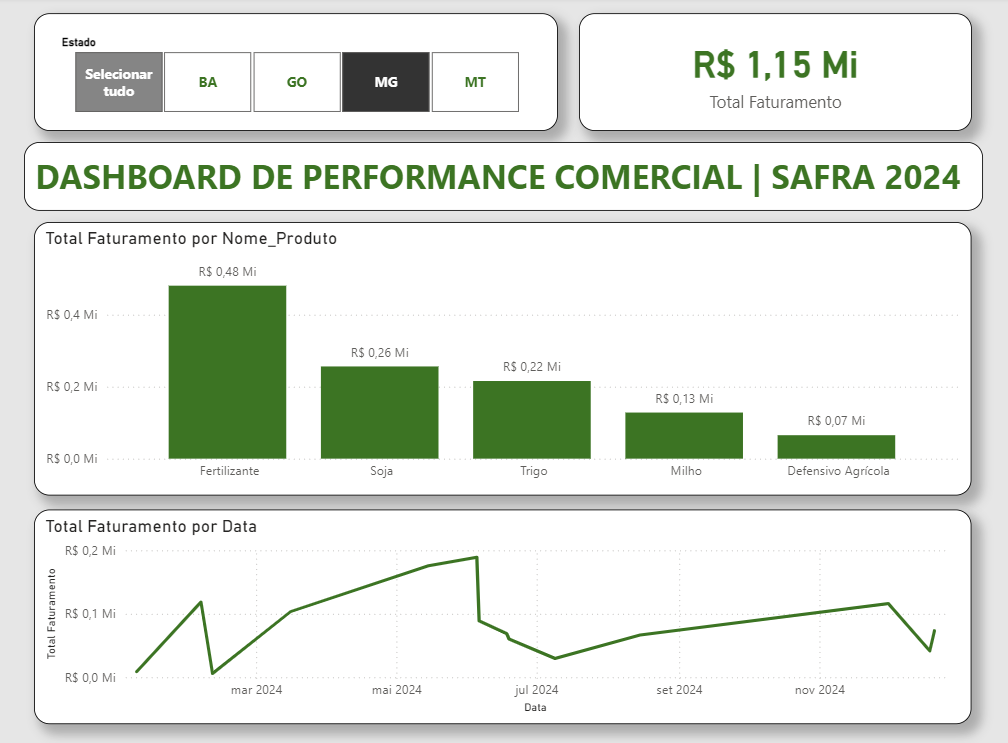

What the dashboard file says about the page in this screenshot:
{"tool":"powerbi","page":{"name":"Página 1","canvas":[1280,720],"ordinal":0},"visuals":[{"type":"card","fields":{"Values":["fVendas.Total Faturamento"]},"box":[748,15.7,378.8,113.4],"z":0},{"type":"columnChart","fields":{"Category":["dProdutos.Nome_Produto"],"Y":["fVendas.Total Faturamento"]},"box":[222,217.2,904.8,264.2],"z":1000},{"type":"slicer","fields":{"Values":["dClientes.Estado"]},"box":[222,15.7,505.5,113.4],"z":2000},{"type":"lineChart","fields":{"Y":["fVendas.Total Faturamento"],"Category":["fVendas.Data"]},"box":[222,494.6,904.8,207.5],"z":3000},{"type":"textbox","box":[212.3,139.9,925.3,66.4],"z":4000}]}

Visuals, with their boxes on the page's 1280x720 design canvas (x1, y1, x2, y2). These are canvas units, not pixel positions in the 1008x743 screenshot, which may show the page scaled, cropped or inside an application window:
card - fVendas.Total Faturamento: [748, 16, 1127, 129]
columnChart - dProdutos.Nome_Produto x fVendas.Total Faturamento: [222, 217, 1127, 481]
slicer - dClientes.Estado: [222, 16, 728, 129]
lineChart - fVendas.Total Faturamento x fVendas.Data: [222, 495, 1127, 702]
textbox: [212, 140, 1138, 206]
